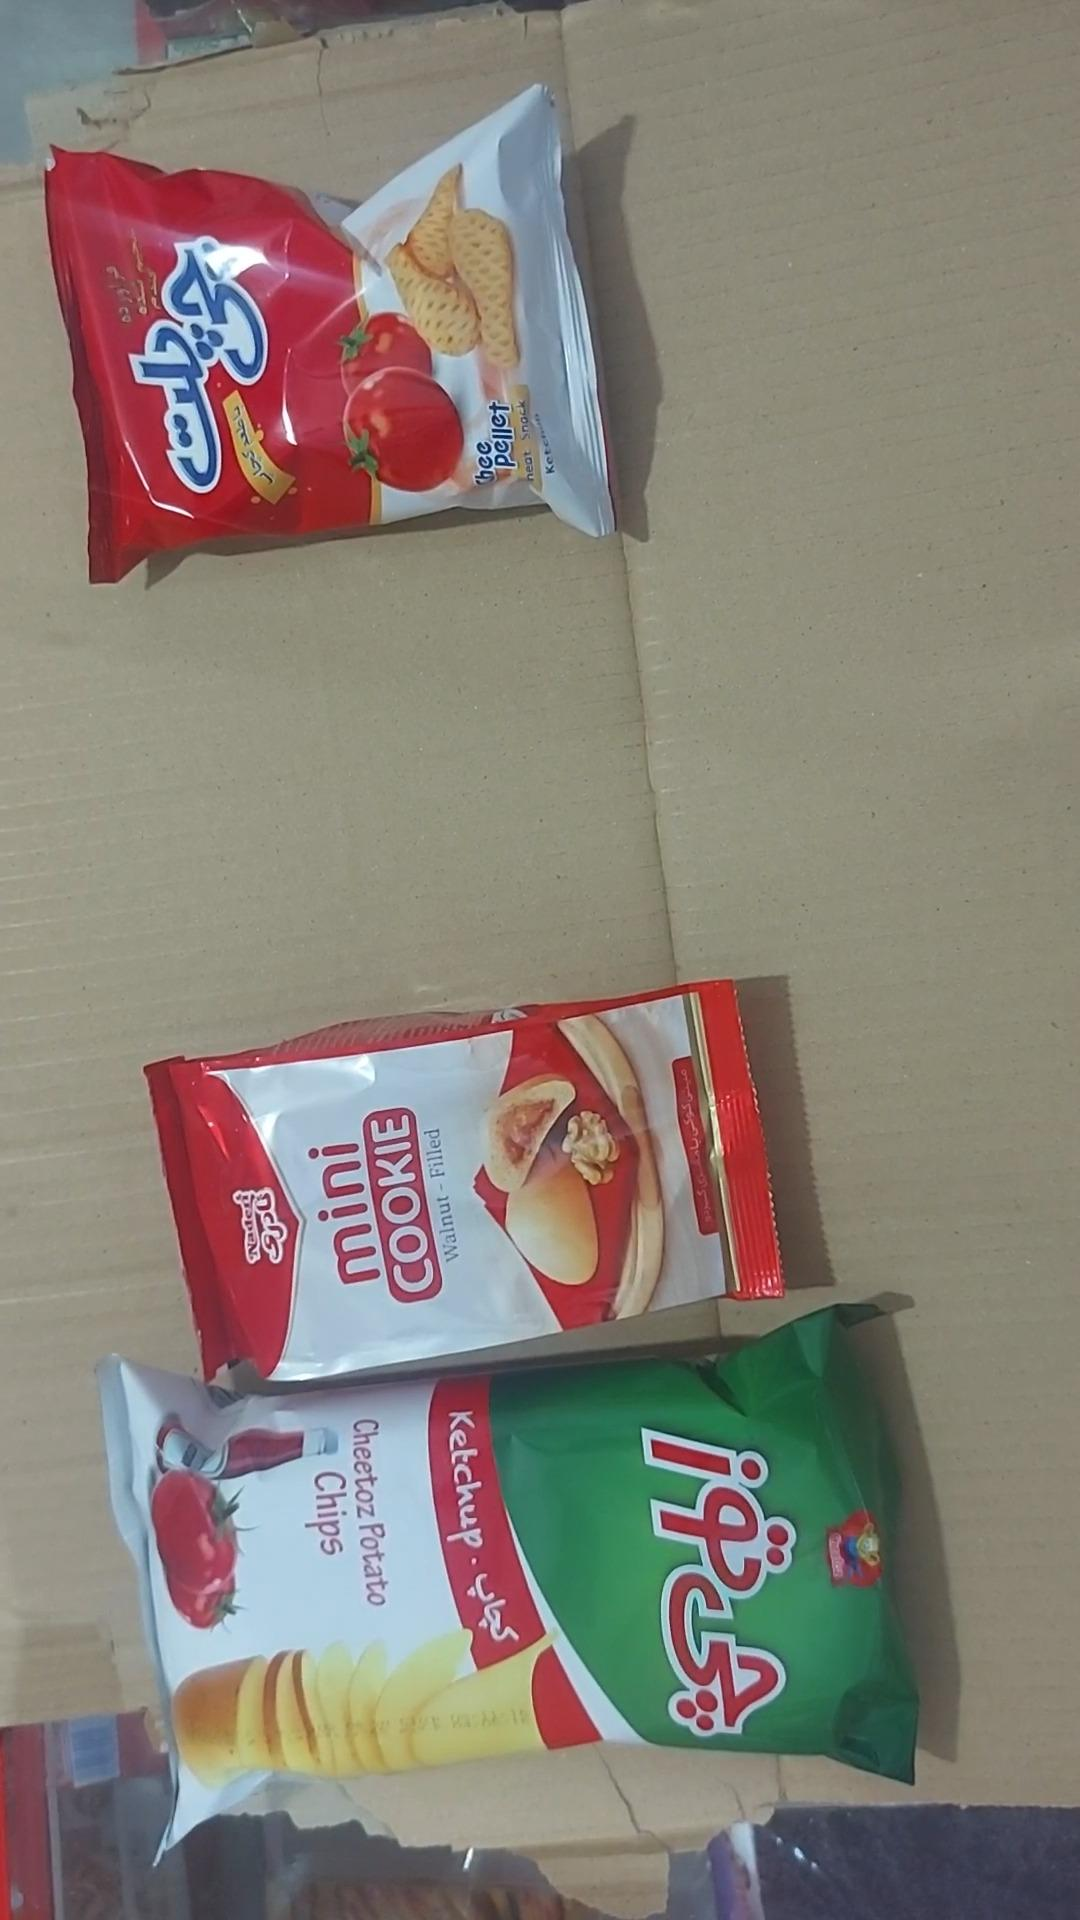Chee pellet ketchup: (42, 84, 615, 585)
Cheetoz ketchup chips: (98, 1298, 920, 1870)
Naderi mini cookie: (141, 981, 786, 1383)
